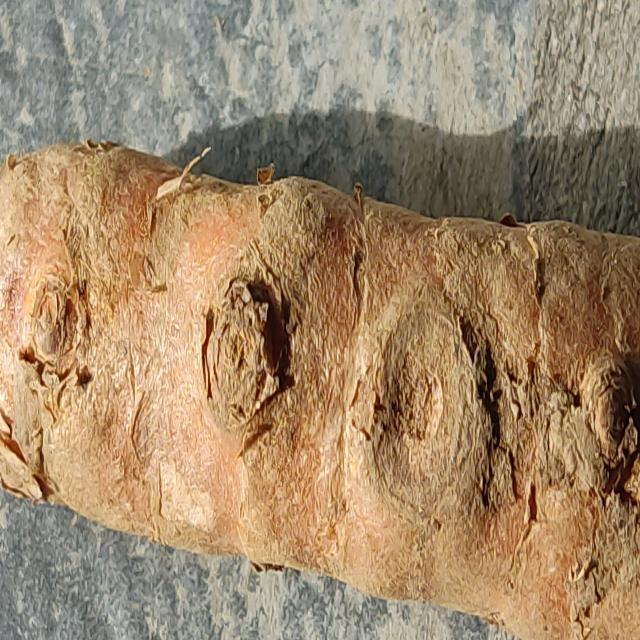ginger: (0, 130, 640, 624)
